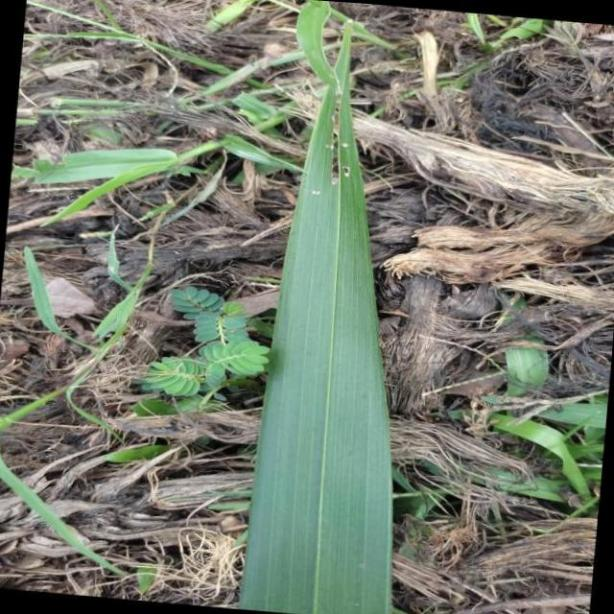Boron: (237, 11, 393, 614)
